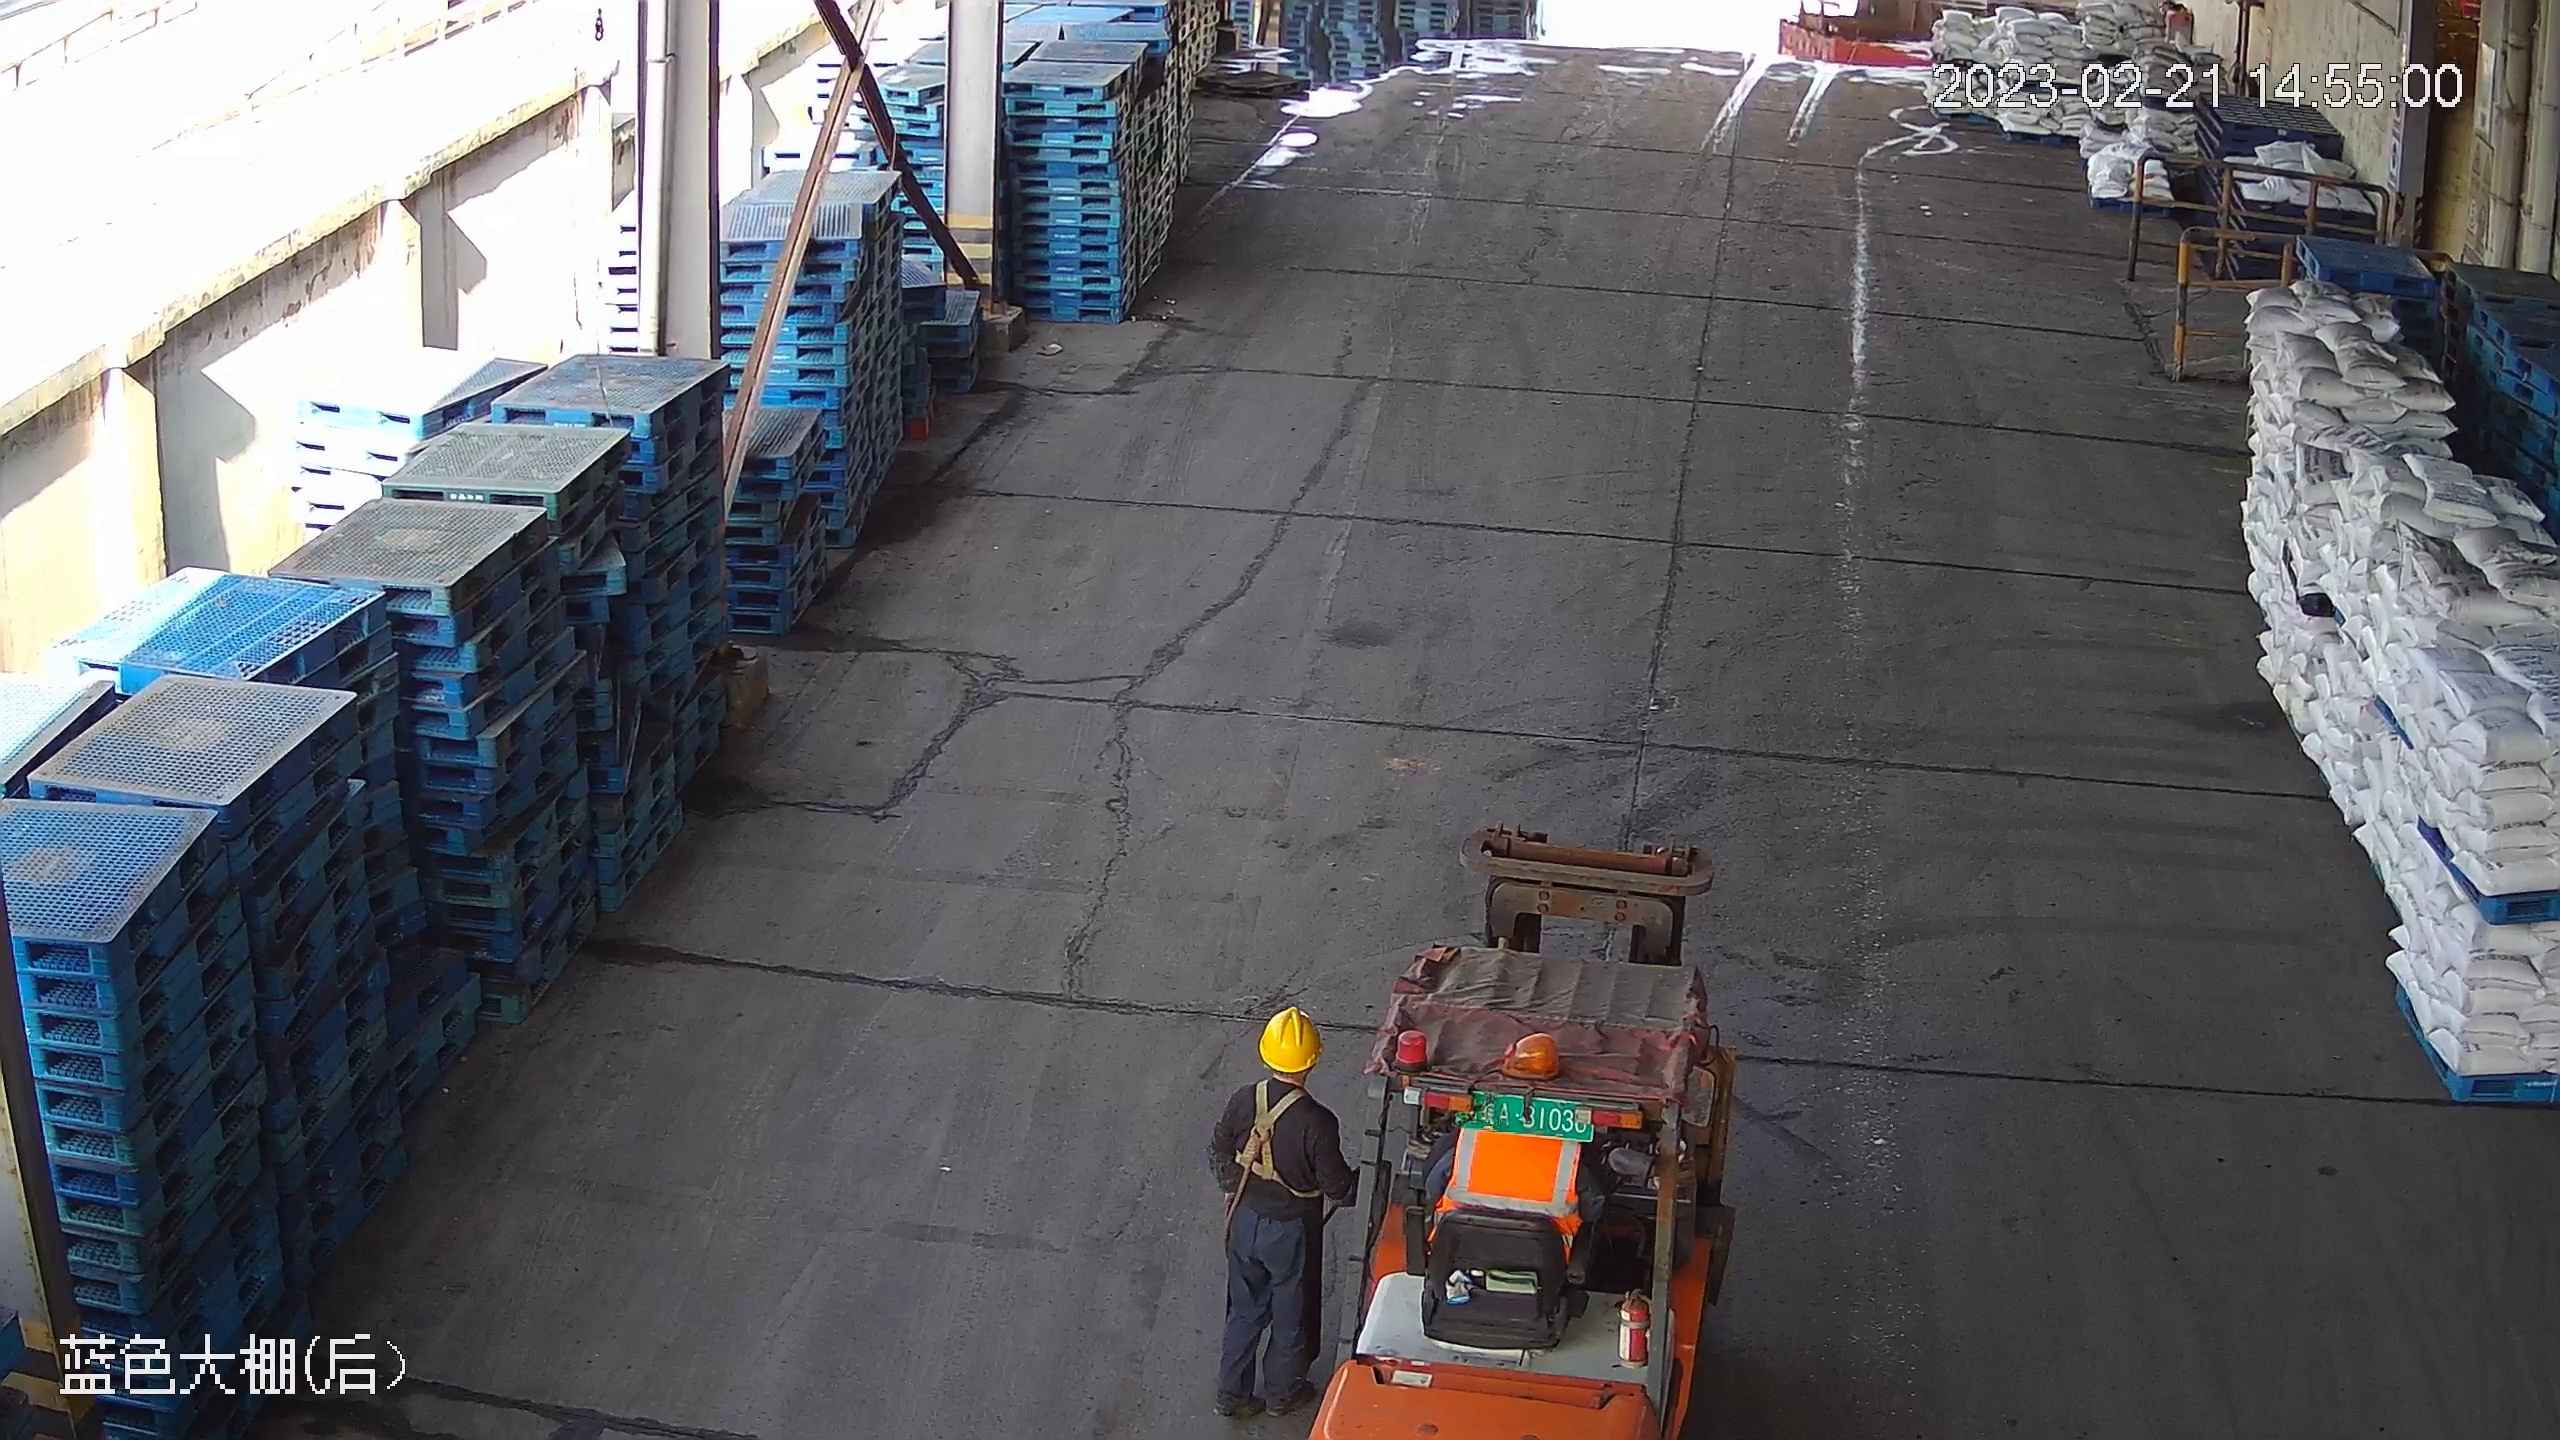belt: (1232, 1081, 1313, 1205)
helmet: (1217, 1008, 1354, 1159), (1256, 1006, 1322, 1079)
people: (1203, 1005, 1361, 1417)
